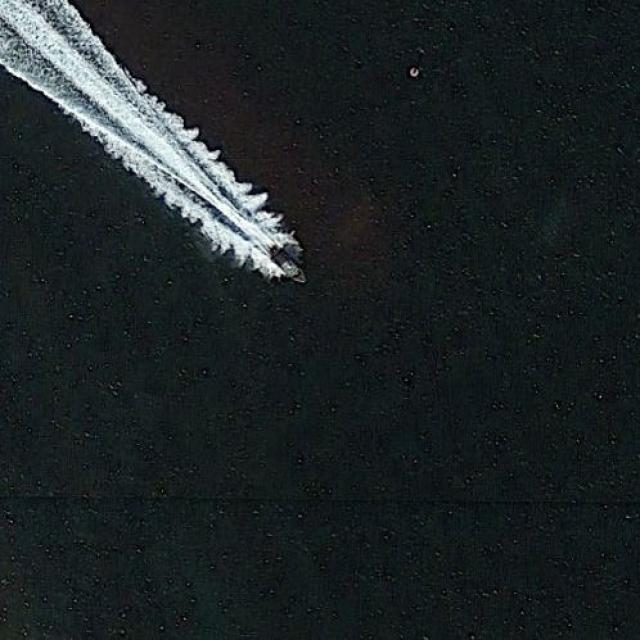ship: (257, 235, 311, 287)
